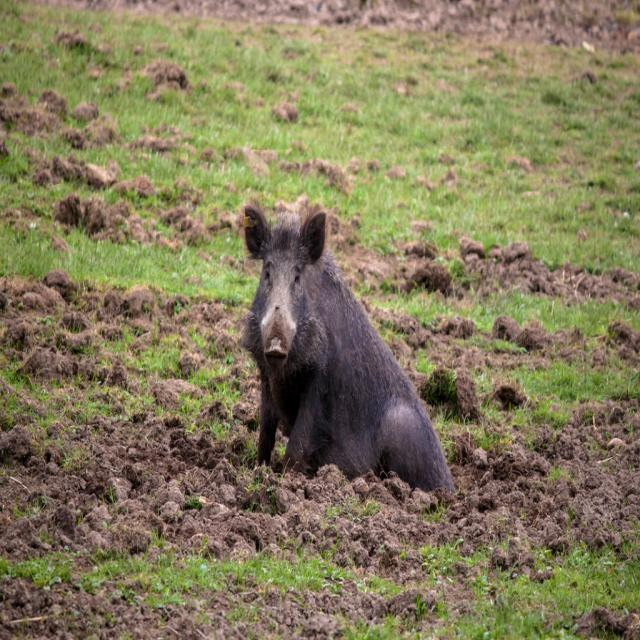Pig: (243, 200, 457, 494)
